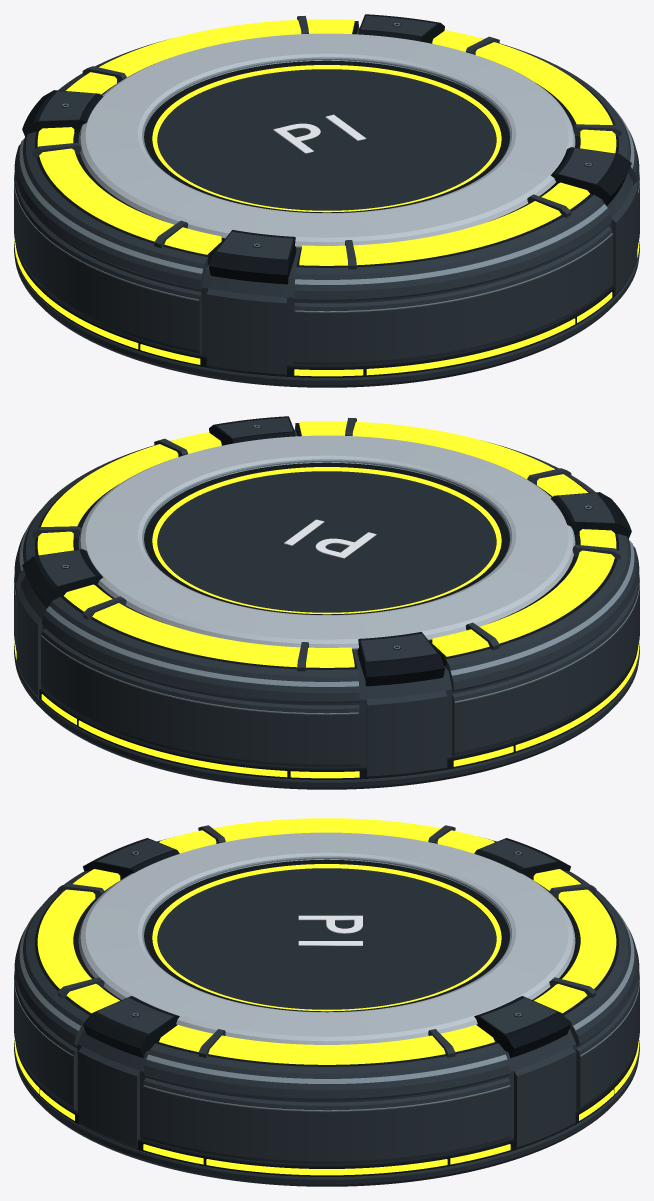
The model's file is Standard.fbx.
The picture shows the model from 3 angles, top to bottom: view 1: azimuth 30°, elevation 25°; view 2: azimuth 150°, elevation 25°; view 3: azimuth 270°, elevation 25°; orthographic projection.
Parts seen in each view (by area): view 1: SM_Puck_Standard_P1_HighDetail; view 2: SM_Puck_Standard_P1_HighDetail; view 3: SM_Puck_Standard_P1_HighDetail.
Boxes of the visible parts, x1,y1,x2,y2 form: SM_Puck_Standard_P1_HighDetail: (14,14,639,387); SM_Puck_Standard_P1_HighDetail: (14,416,639,789); SM_Puck_Standard_P1_HighDetail: (14,818,639,1186).
Size of the model in its own units: 90 by 90 by 20.
